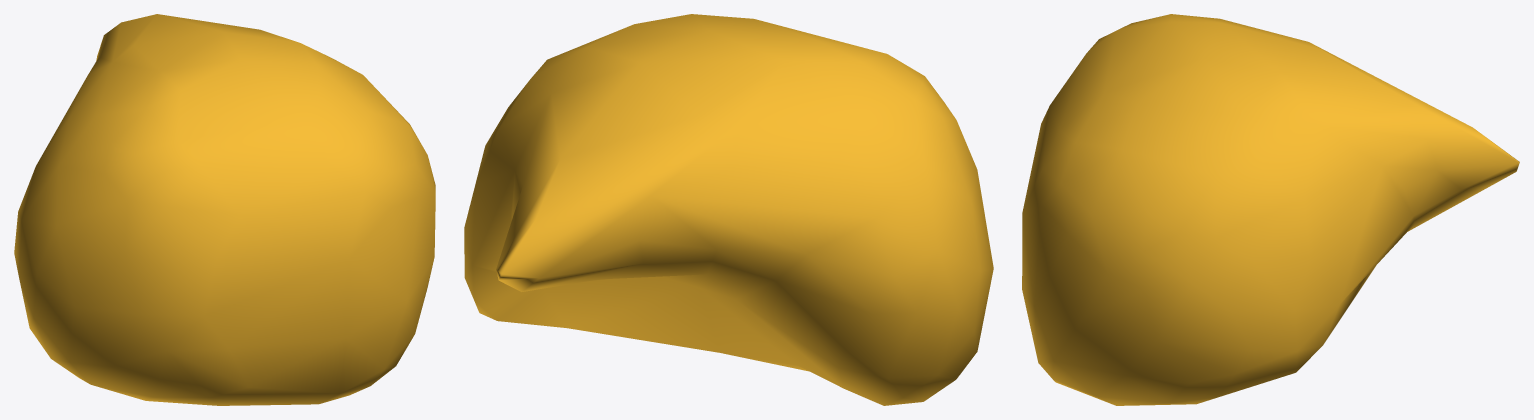
The model's file is nervoso-amygdaloid-body-l.glb.
3 views of the same model, side by side, from view 1: azimuth 30°, elevation 25°; view 2: azimuth 150°, elevation 25°; view 3: azimuth 270°, elevation 25° (orthographic). The views are drawn at different scales.
Parts seen in each view (by area): view 1: Amygdaloid body.l; view 2: Amygdaloid body.l; view 3: Amygdaloid body.l.
Part boxes in pixels (box(x1,y1,x2,y2)): Amygdaloid body.l: box(14, 14, 435, 405); Amygdaloid body.l: box(464, 14, 993, 405); Amygdaloid body.l: box(1022, 14, 1519, 405).
Size of the model in its own units: 0.0165 by 0.0124 by 0.0178.
